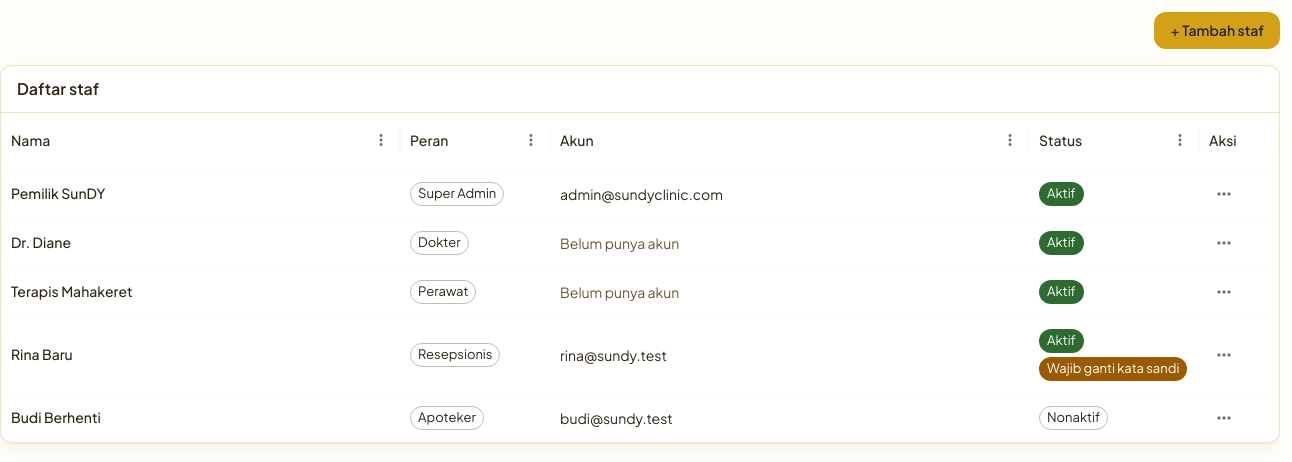
Test case: daftar dan menu aksi › tombol menu memberi tahu pembaca layar status dan menu yang dikendalikannya
Click the button named "Aksi lain Dr. Diane". click: (1224, 243)
box: [1209, 228, 1239, 258]
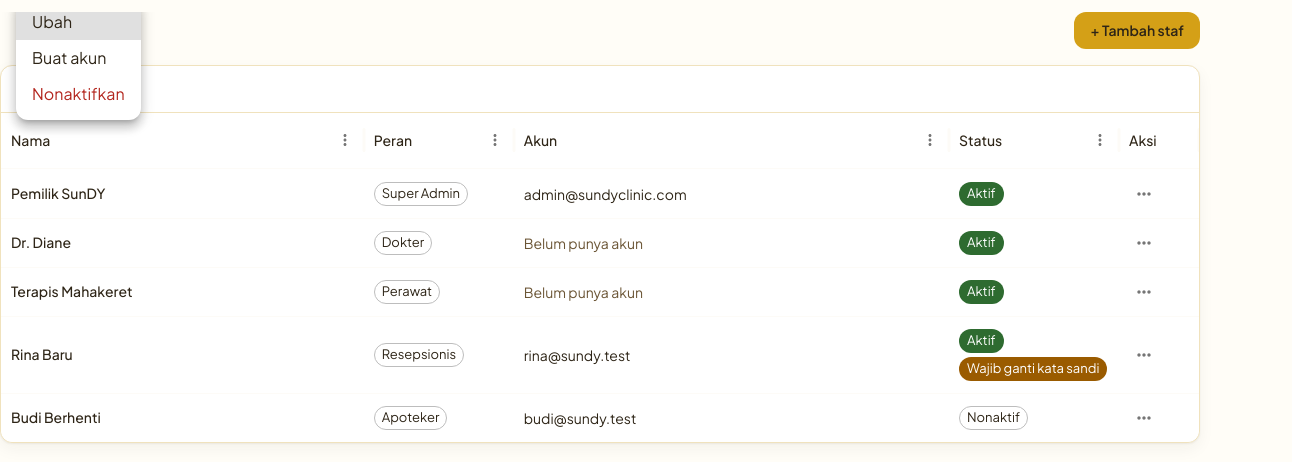
Expected: the button named "Aksi lain Dr. Diane" is expanded, [1129, 228, 1159, 258]
